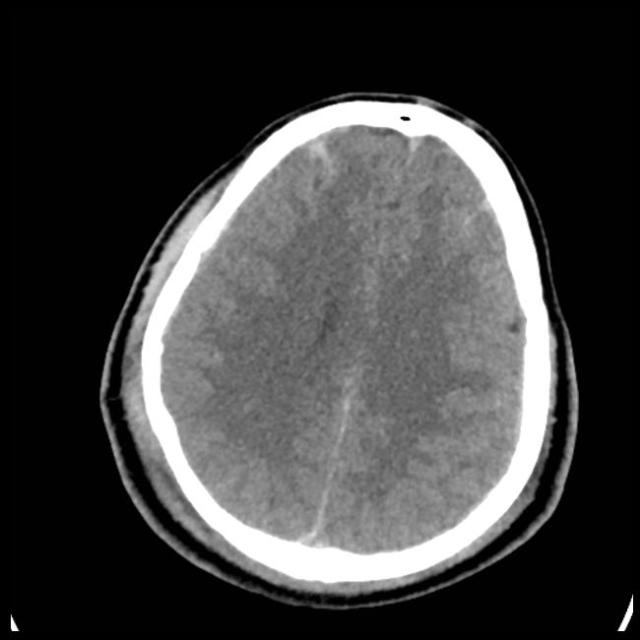lesion: (97, 90, 580, 608)
